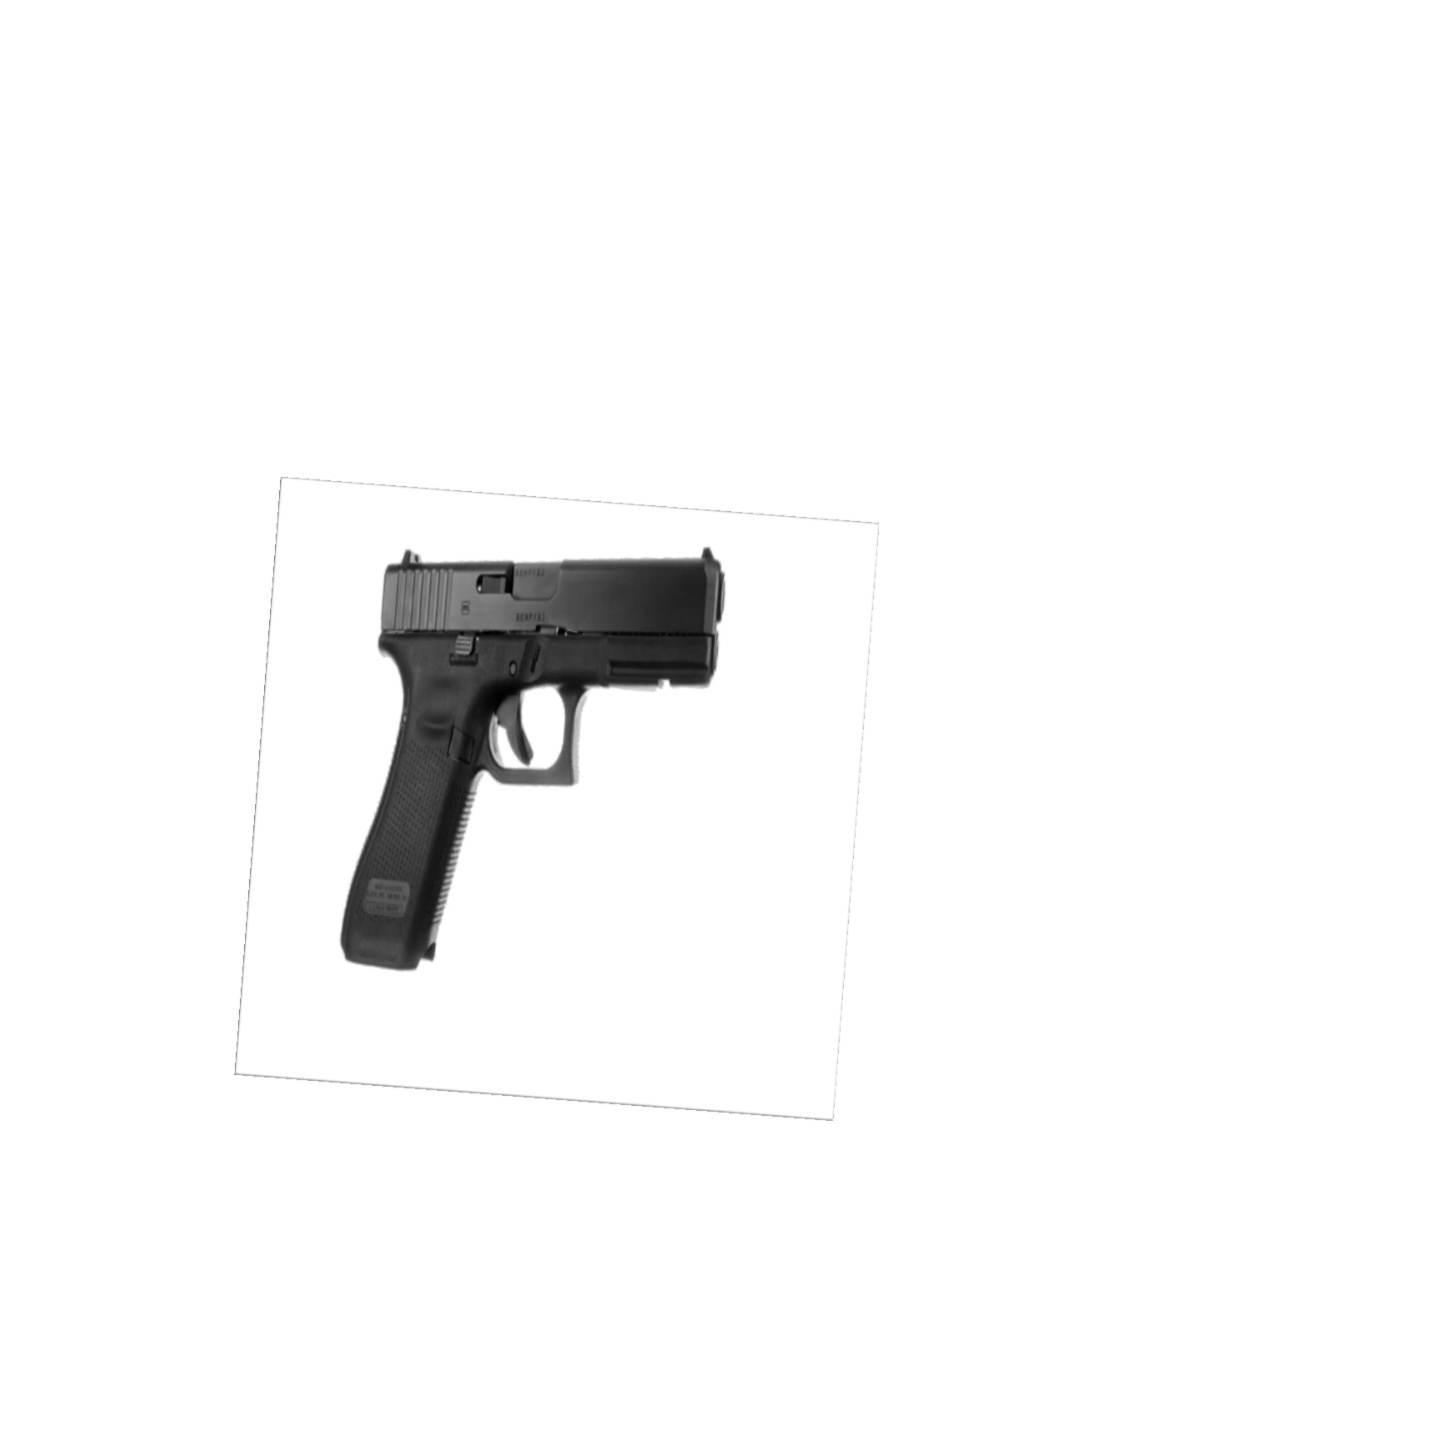gun: (324, 539, 759, 988)
